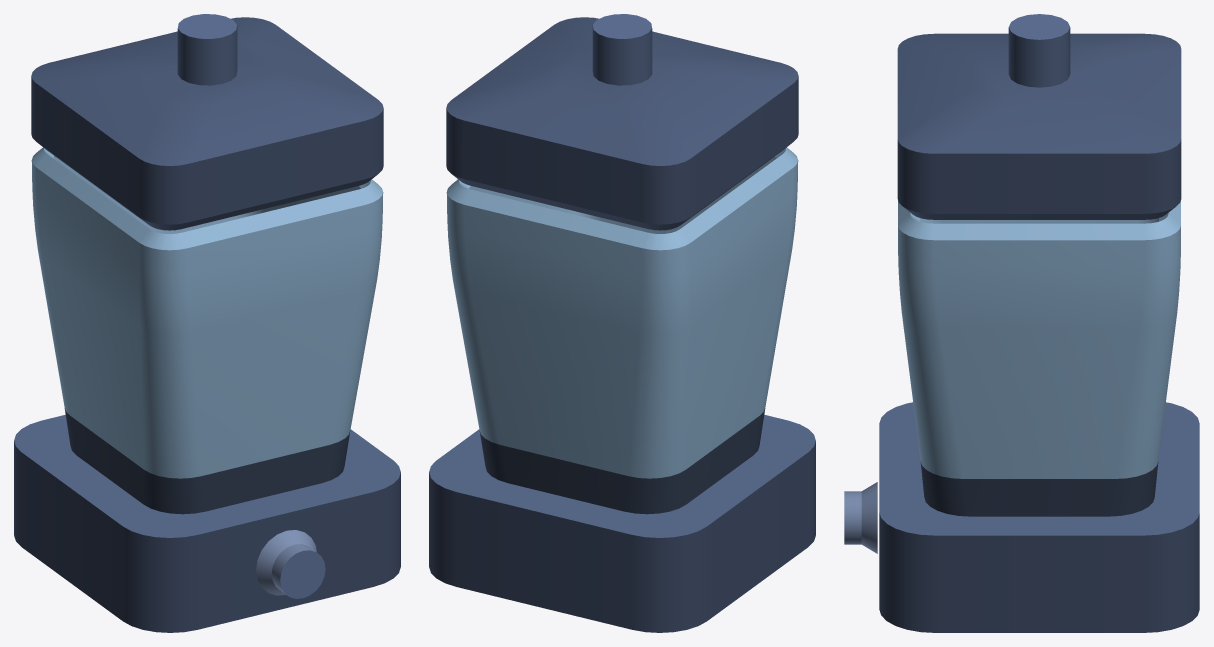
Rendered from Blender.fbx.
3 views of the same model, side by side, from view 1: azimuth 30°, elevation 25°; view 2: azimuth 150°, elevation 25°; view 3: azimuth 270°, elevation 25° (orthographic). The views are drawn at different scales.
Visible parts, largest first — view 1: Blender, Blender.001, Blender.003, Blender.002; view 2: Blender, Blender.001, Blender.003; view 3: Blender, Blender.001, Blender.003, Blender.002.
Boxes of the visible parts, <box> form: Blender: <box>31,147,383,478</box>; Blender.001: <box>14,408,400,632</box>; Blender.003: <box>31,14,383,230</box>; Blender.002: <box>256,530,325,598</box>; Blender: <box>446,147,798,478</box>; Blender.001: <box>429,408,815,632</box>; Blender.003: <box>446,14,798,230</box>; Blender: <box>898,200,1180,478</box>; Blender.001: <box>879,402,1199,632</box>; Blender.003: <box>897,14,1181,219</box>; Blender.002: <box>844,482,877,553</box>.
Size of the model in its own units: 0.4602 by 0.8529 by 0.5105.
